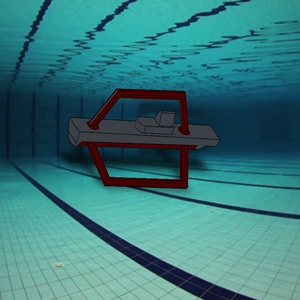submarine: (59, 76, 237, 208)
